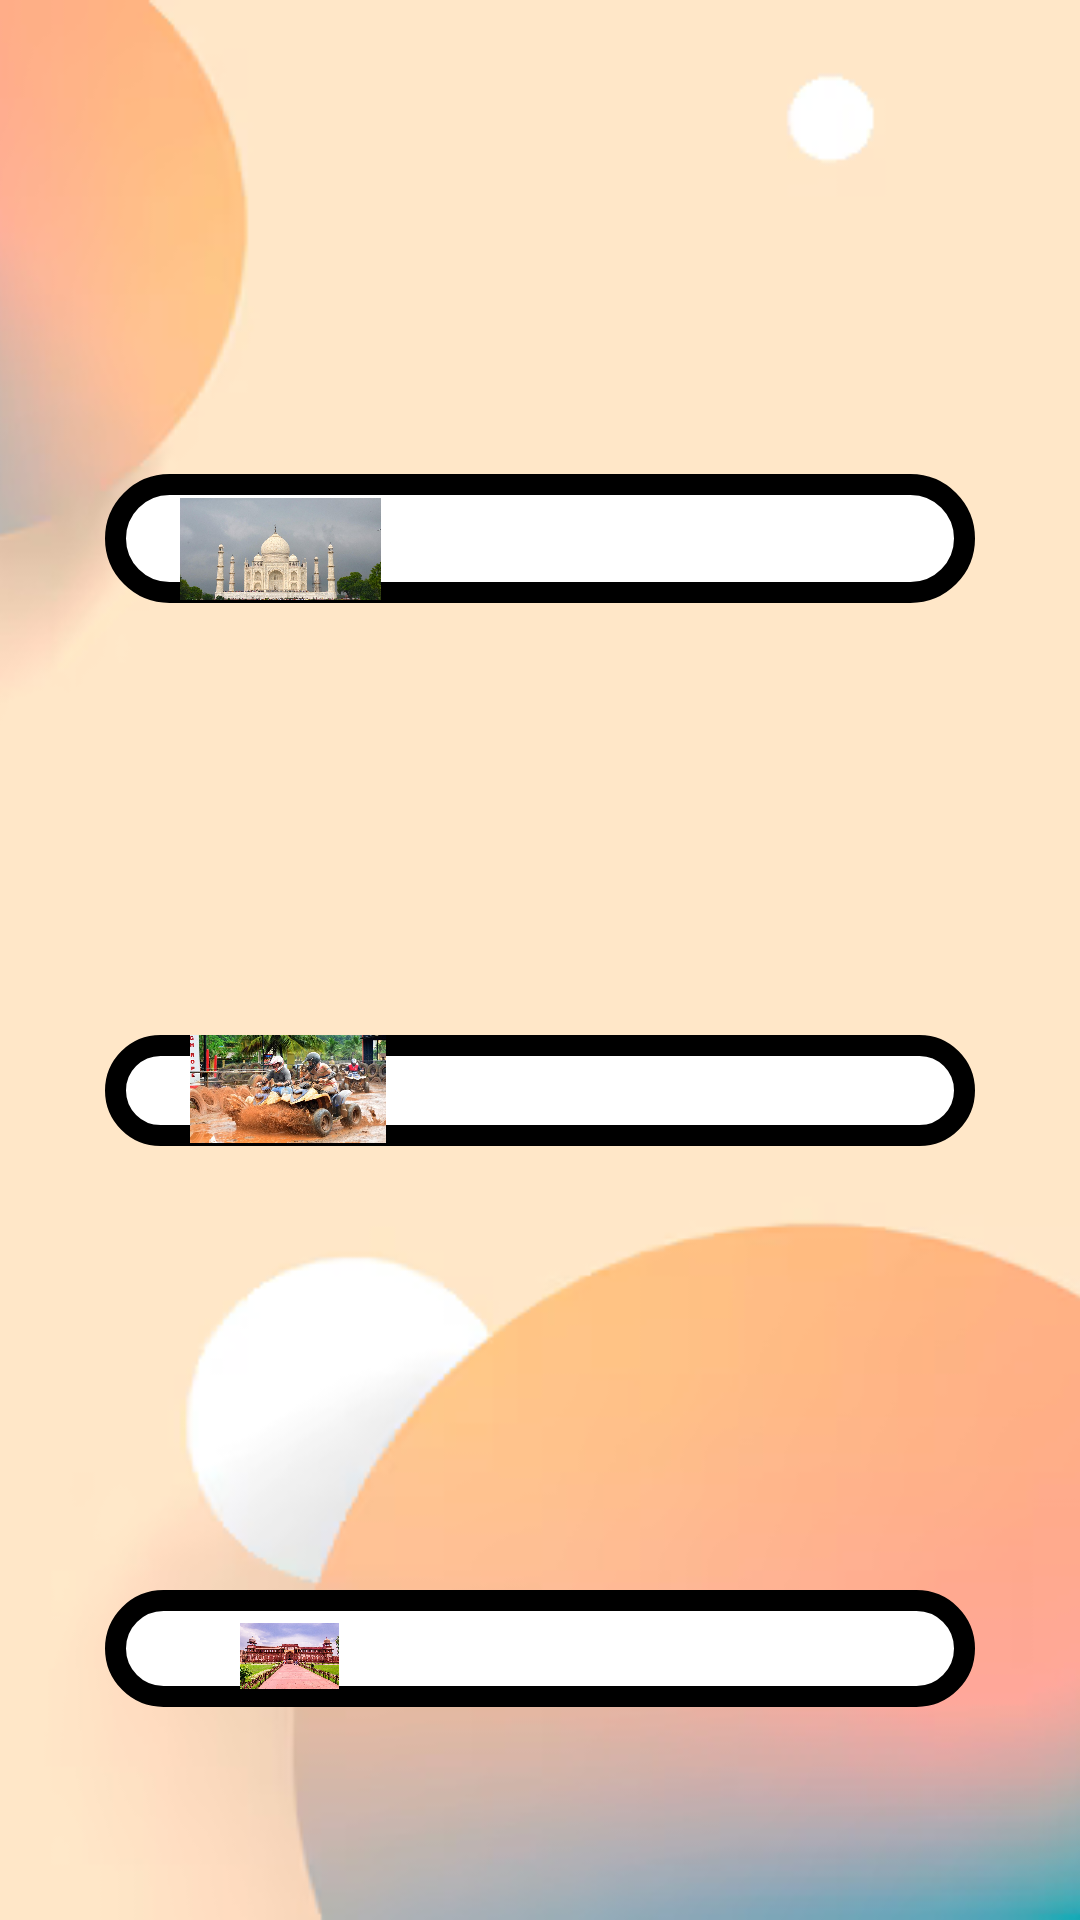

Named icons in this screenshot (1080 x 1920) and their centers, point (x, y):
della adventure park: point (288, 1089)
taj mahal: point (280, 549)
